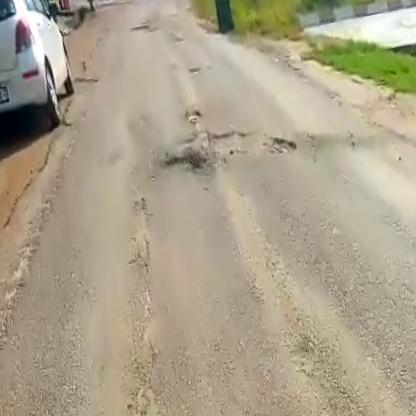pothole: (209, 119, 300, 171), (163, 148, 211, 180)
